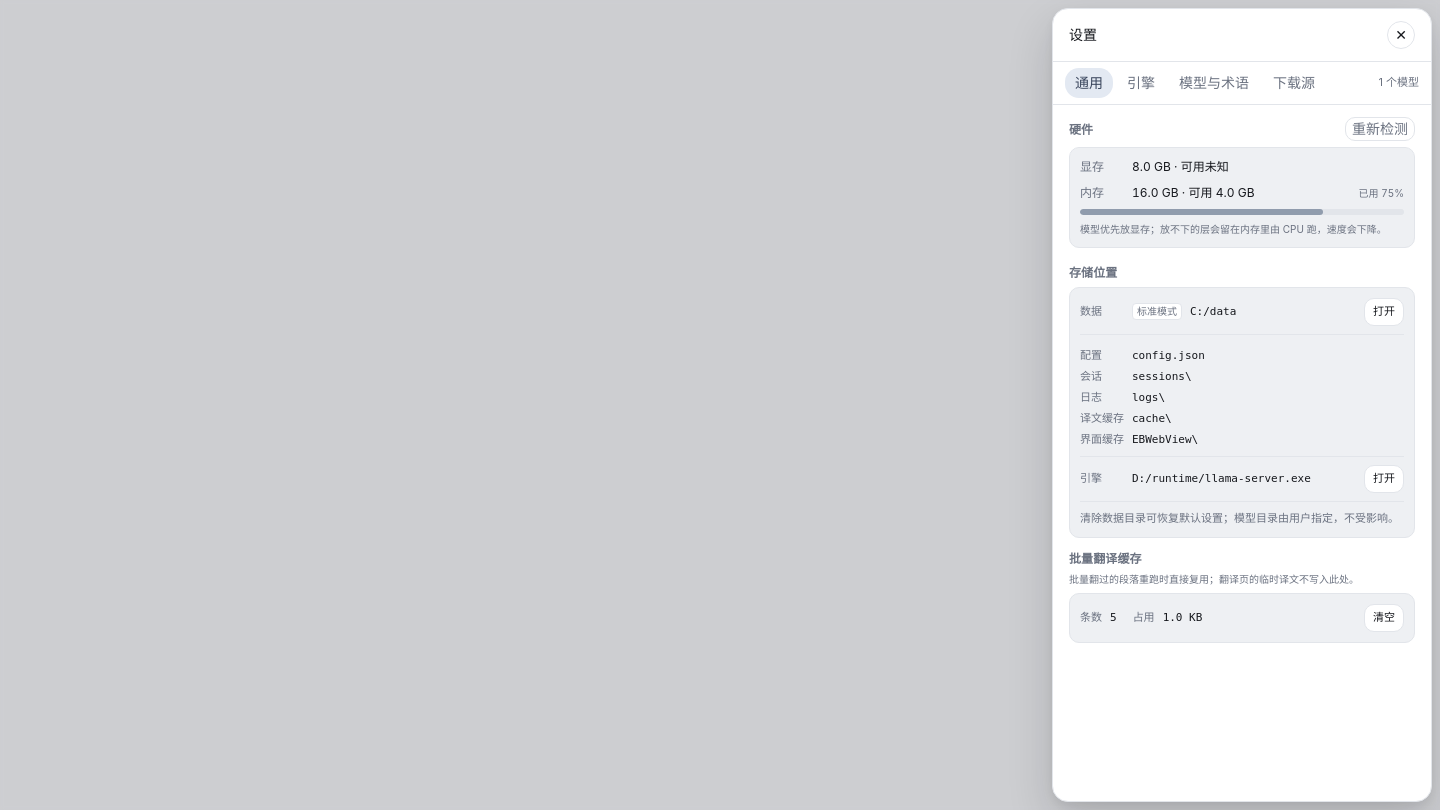
ModelDrawer · 设置读写 › 打开时读取设置，并把 TTL 档位显示出来
The width and height of the screenshot is (1440, 810).
Click the tab "引擎".
click(1141, 83)  # box [1117, 68, 1165, 98]
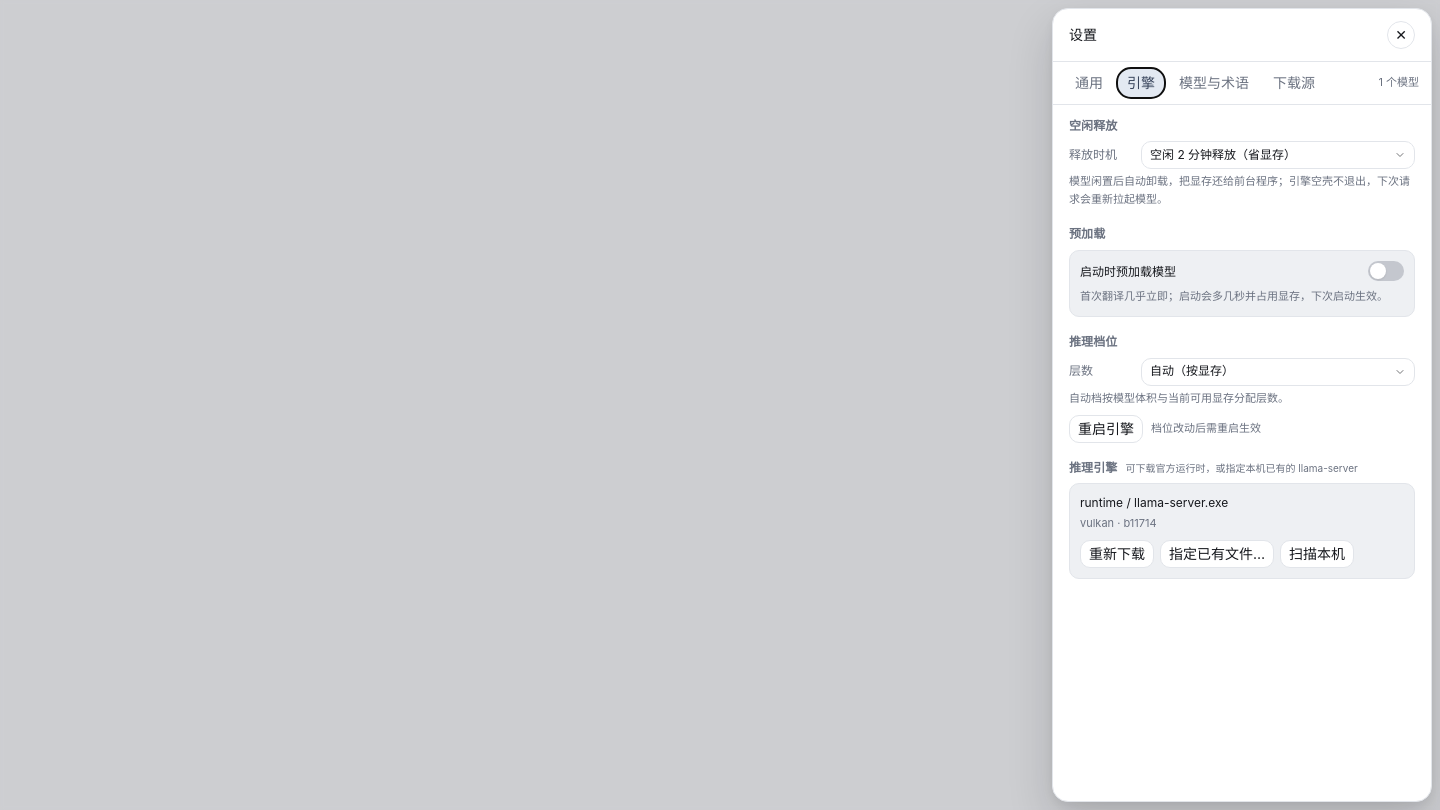
Expected: the text "空闲 2 分钟释放（省显存）" is shown, [1150, 147, 1296, 162]
